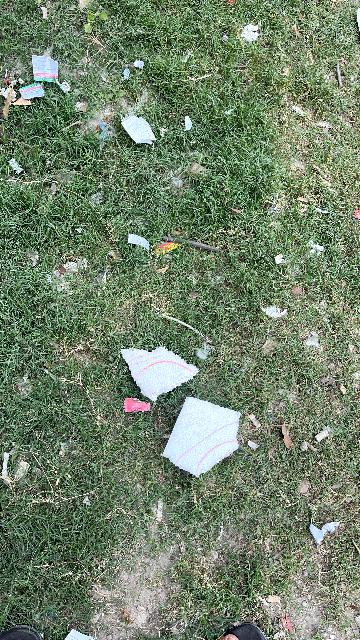cocksheet: (106, 325, 259, 497)
